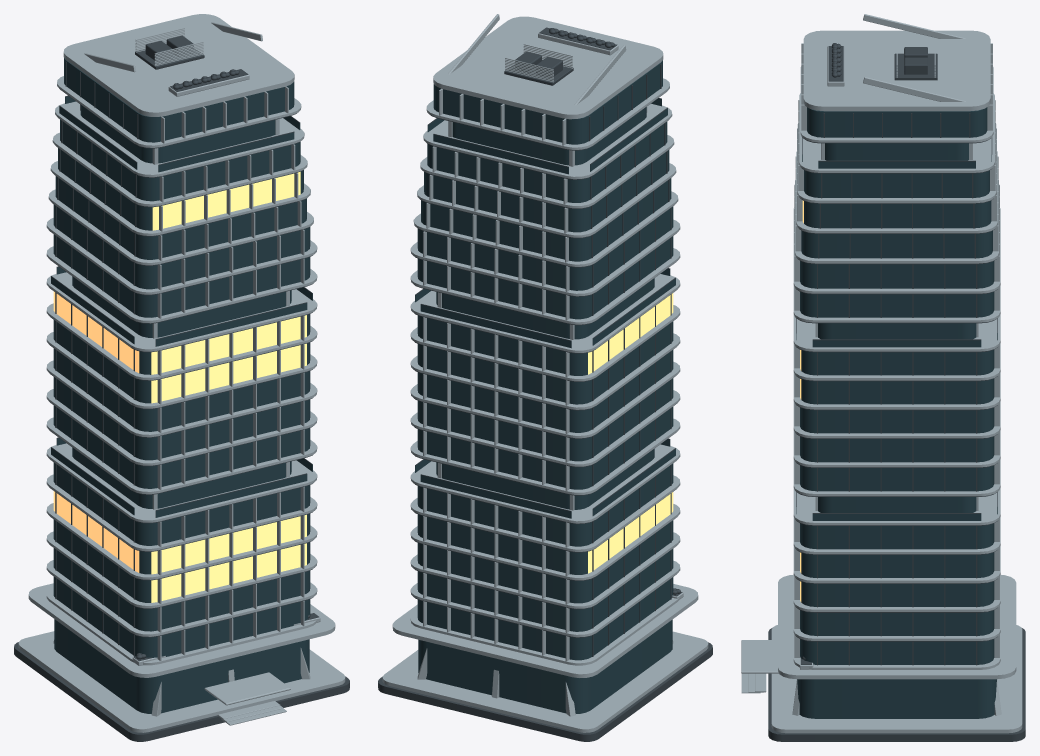
The model's file is Nocturne_TerraceTower_Night_A.fbx.
3 views of the same model, side by side, from view 1: azimuth 30°, elevation 25°; view 2: azimuth 150°, elevation 25°; view 3: azimuth 270°, elevation 25° (orthographic).
Visible parts, largest first — view 1: Nocturne_TerraceTower_Night_A; view 2: Nocturne_TerraceTower_Night_A; view 3: Nocturne_TerraceTower_Night_A.
Boxes of the visible parts, <box> form: Nocturne_TerraceTower_Night_A: <box>14,14,349,741</box>; Nocturne_TerraceTower_Night_A: <box>378,14,712,741</box>; Nocturne_TerraceTower_Night_A: <box>741,14,1025,741</box>.
Bounding box in the file's own units: 27 × 74.28 × 29.85.
